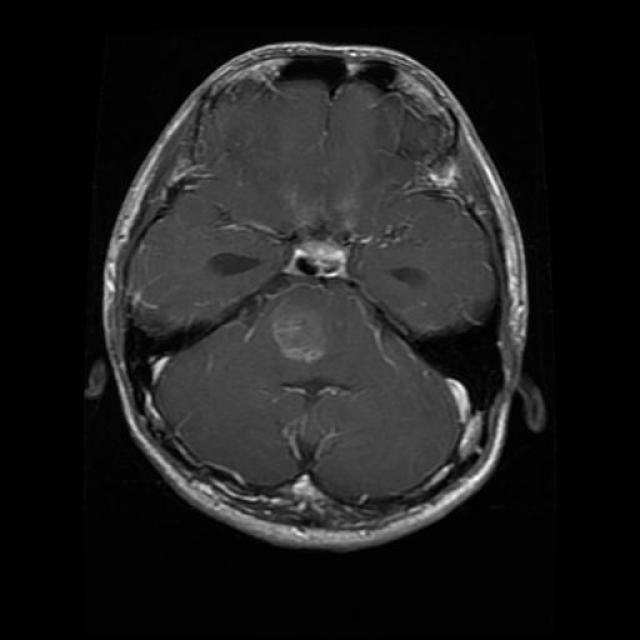glioma: (261, 186, 355, 305)
